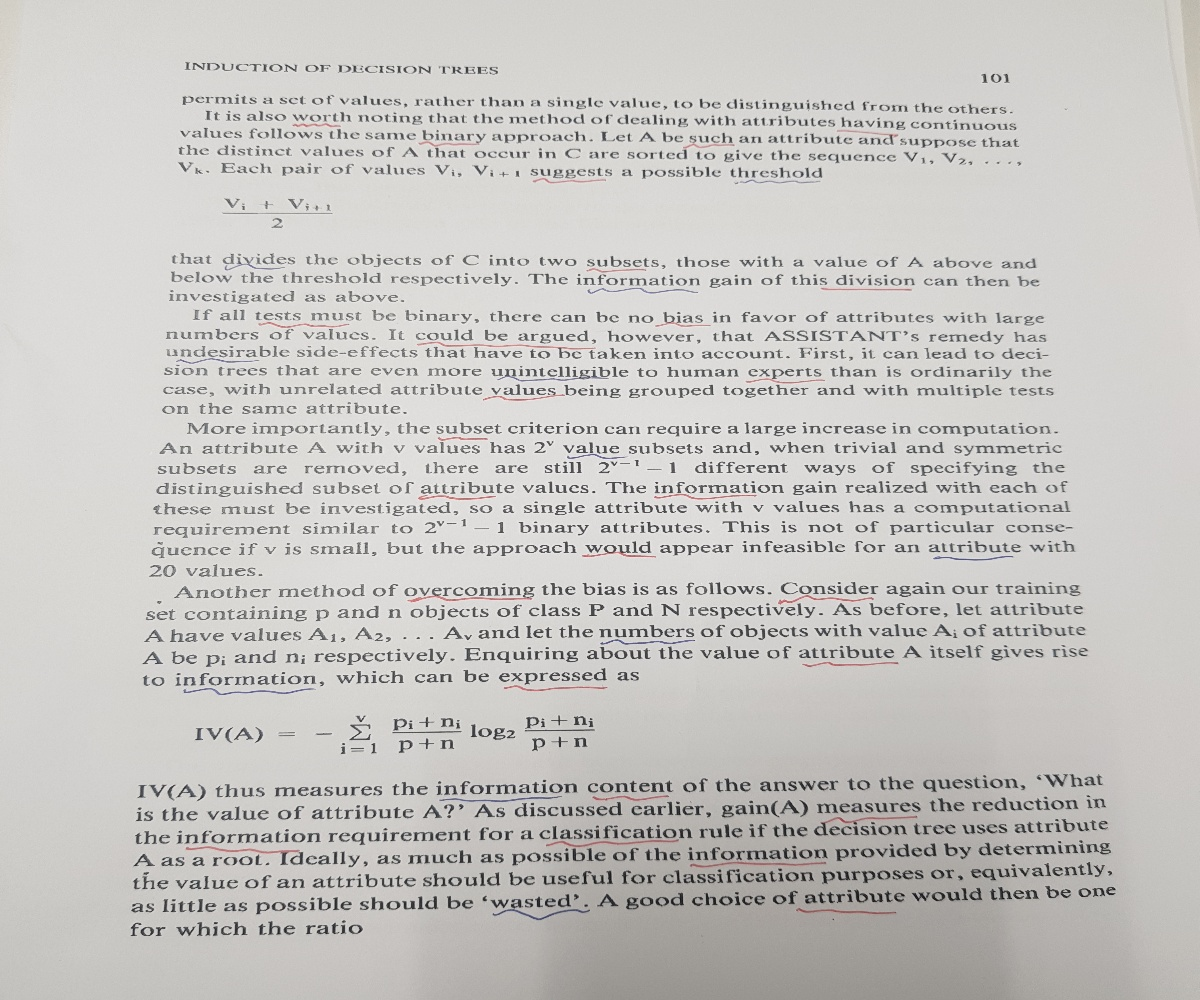underline: (416, 338, 594, 351), (183, 843, 302, 857), (489, 907, 592, 923), (688, 858, 828, 869), (179, 686, 317, 697), (586, 283, 698, 296), (501, 682, 607, 695), (543, 838, 679, 848), (404, 595, 536, 605), (793, 904, 900, 916), (800, 659, 903, 670), (436, 794, 561, 803), (480, 392, 566, 405), (169, 354, 267, 365), (818, 283, 915, 294), (931, 552, 1013, 565), (494, 373, 610, 382), (742, 375, 826, 387), (774, 594, 874, 604), (595, 638, 695, 648), (650, 492, 759, 501), (732, 176, 820, 187), (579, 549, 659, 561), (819, 816, 920, 825), (256, 320, 351, 329), (417, 491, 496, 501), (833, 126, 898, 138), (530, 176, 607, 186), (590, 793, 673, 802), (563, 452, 630, 462), (680, 140, 737, 151), (418, 138, 480, 148), (435, 431, 490, 442), (222, 262, 289, 271), (584, 265, 647, 274), (292, 121, 344, 131), (651, 321, 711, 329)
